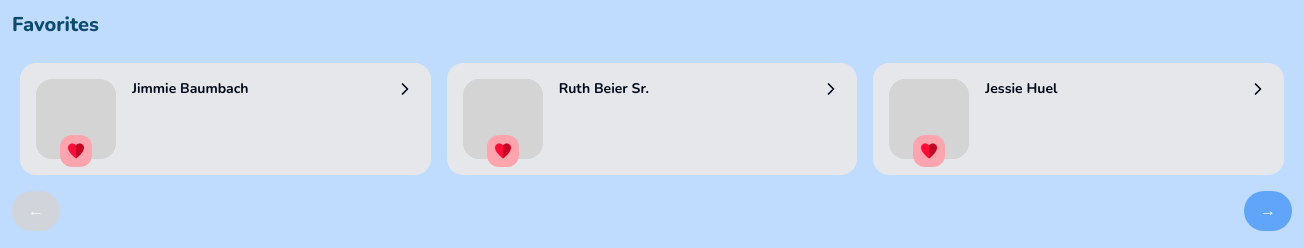
FavoriteHeroes › handles scroll left and right correctly
Expected: the button "←" is disabled, [12,191,60,231]
Click the button "→".
click(1268, 211)  # box [1244,191,1292,231]
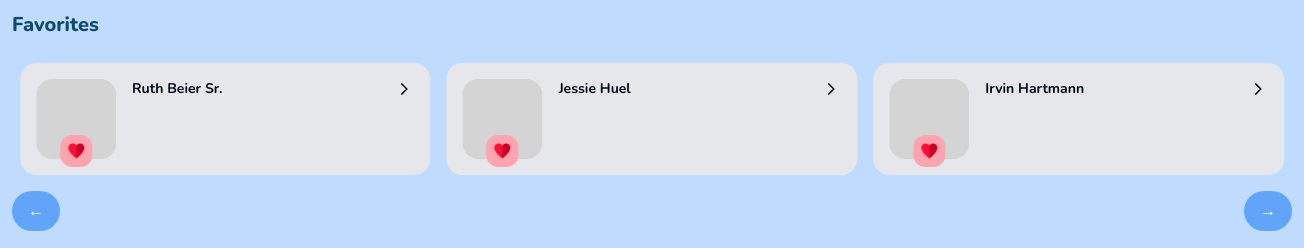
Now the button "←" is enabled, box [12,191,60,231]
